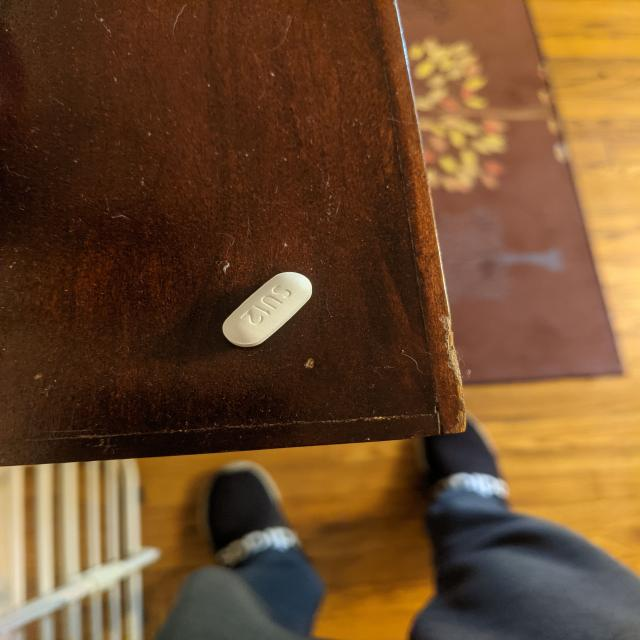non-organic waste: (220, 270, 314, 348)
